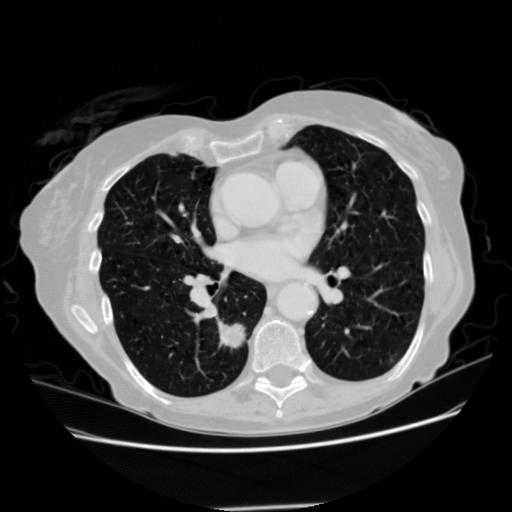nodule: (216, 319, 248, 351)
